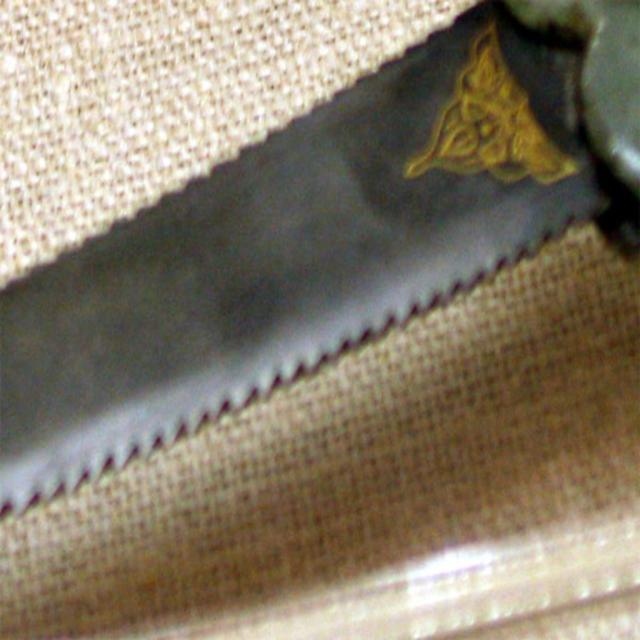Knife: (0, 1, 640, 507)
